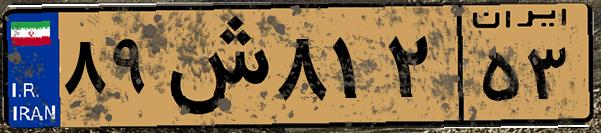1: (330, 28, 385, 110)
2: (385, 28, 445, 110)
3: (525, 38, 570, 115)
5: (475, 38, 525, 113)
8: (270, 28, 330, 110), (57, 26, 110, 100)
9: (110, 28, 158, 98)
ش: (158, 12, 270, 120)
